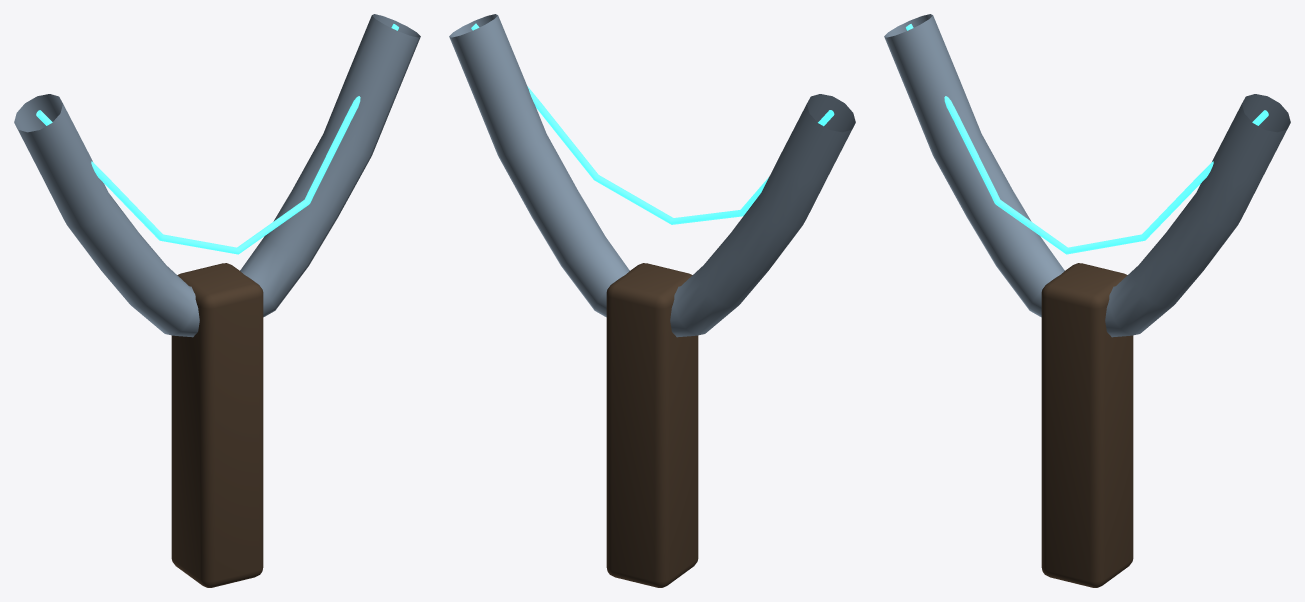
The model's file is bow_v7.glb.
3 renders of one model, left to right at view 1: azimuth 30°, elevation 25°; view 2: azimuth 150°, elevation 25°; view 3: azimuth 330°, elevation 25°, orthographic.
Parts seen in each view (by area): view 1: SLINGBOW_FRAME_PRIMARY, SLINGBOW_GRIP_SECONDARY, SLINGBOW_CORD_EMISSIVE; view 2: SLINGBOW_FRAME_PRIMARY, SLINGBOW_GRIP_SECONDARY, SLINGBOW_CORD_EMISSIVE; view 3: SLINGBOW_FRAME_PRIMARY, SLINGBOW_GRIP_SECONDARY, SLINGBOW_CORD_EMISSIVE.
Part boxes in pixels (x1,y1,x2,y2): SLINGBOW_FRAME_PRIMARY: (14,14,420,337); SLINGBOW_GRIP_SECONDARY: (171,263,263,587); SLINGBOW_CORD_EMISSIVE: (36,24,398,254); SLINGBOW_FRAME_PRIMARY: (449,14,855,337); SLINGBOW_GRIP_SECONDARY: (606,263,698,587); SLINGBOW_CORD_EMISSIVE: (471,23,834,224); SLINGBOW_FRAME_PRIMARY: (884,14,1290,337); SLINGBOW_GRIP_SECONDARY: (1041,263,1133,587); SLINGBOW_CORD_EMISSIVE: (906,24,1268,254).
Size of the model in its own units: 2.05 by 2.53 by 0.366.
